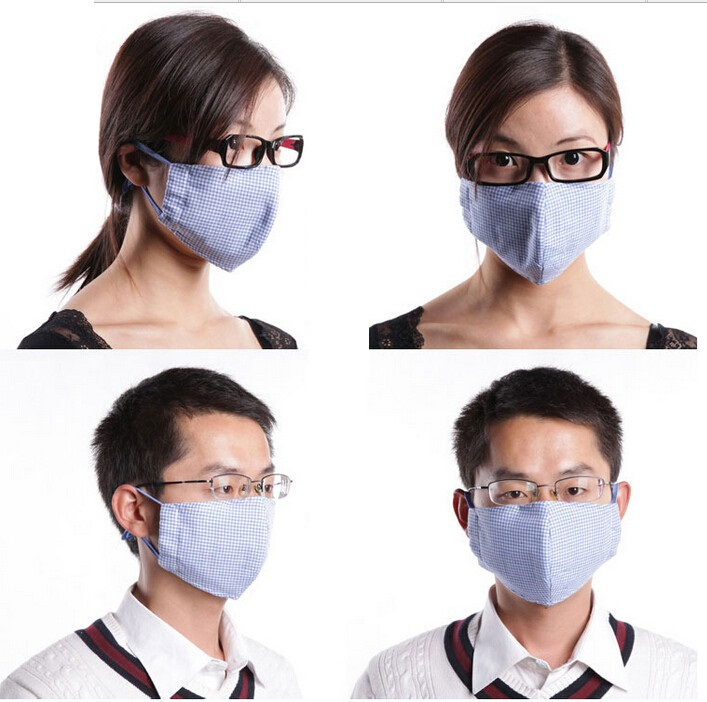face_mask: (459, 96, 611, 285), (470, 420, 620, 606), (158, 407, 272, 600), (162, 114, 285, 273)
